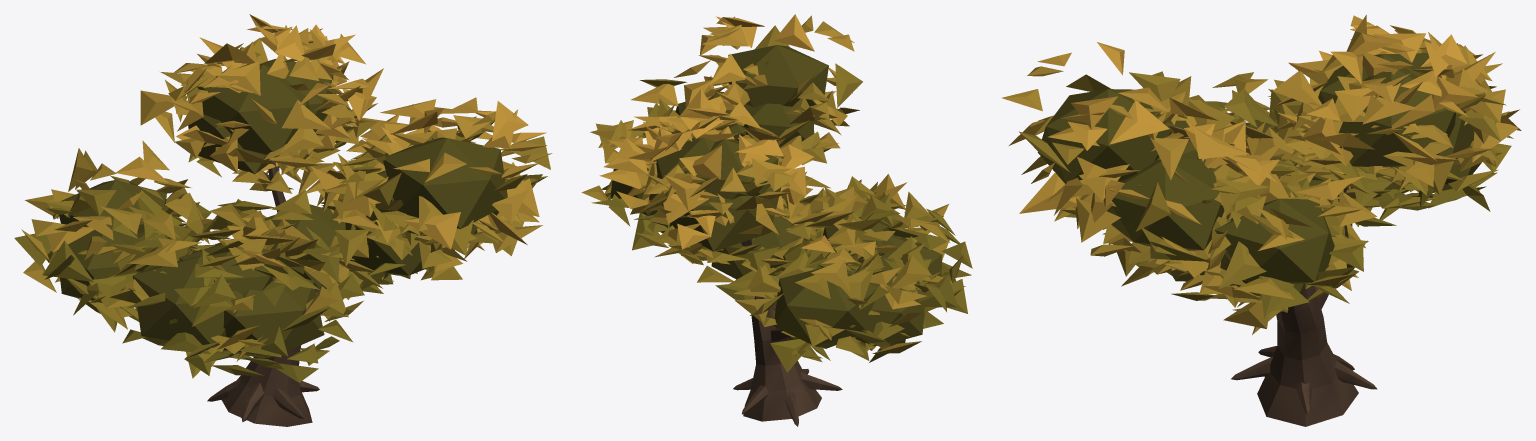
File: oak_1.glb
3 views of the same model, side by side, from view 1: azimuth 30°, elevation 25°; view 2: azimuth 150°, elevation 25°; view 3: azimuth 270°, elevation 25° (orthographic). The views are drawn at different scales.
Parts seen in each view (by area): view 1: oak_1; view 2: oak_1; view 3: oak_1.
Boxes of the visible parts, left/top/right/bottom form: oak_1: left=14, top=14, right=552, bottom=426; oak_1: left=581, top=14, right=972, bottom=426; oak_1: left=1002, top=14, right=1521, bottom=426.
Bounding box in the file's own units: 15.43 × 12.21 × 14.22.
